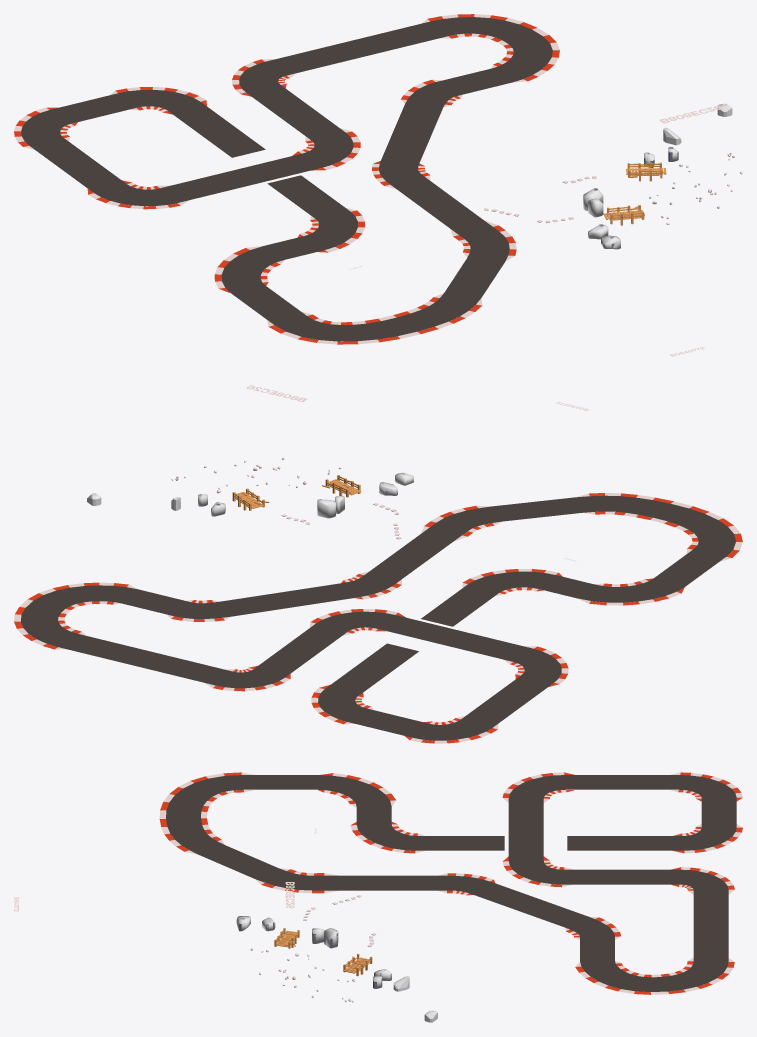
File: scenery.glb
The picture shows the model from 3 angles, top to bottom: view 1: azimuth 30°, elevation 25°; view 2: azimuth 150°, elevation 25°; view 3: azimuth 270°, elevation 25°; orthographic projection. The views are drawn at different scales.
Parts seen in each view (by area): view 1: refRoad, Cube.076, Cube.049, Cube.078, Cube.071, Cube.079; view 2: refRoad, Cube.076, Cube.049, Cube.078; view 3: refRoad, Cube.076, Cube.049, Cube.078, Cube.079, Cube.072, Cube.071, Cube.067, Cube.075, Cube.066.
Part boxes in pixels (bbox=[...]): refRoad: bbox=[21, 17, 552, 341]; Cube.076: bbox=[267, 293, 482, 344]; Cube.049: bbox=[421, 14, 559, 82]; Cube.078: bbox=[214, 246, 284, 292]; Cube.071: bbox=[87, 180, 188, 209]; Cube.079: bbox=[297, 208, 364, 252]; refRoad: bbox=[21, 495, 735, 740]; Cube.076: bbox=[576, 493, 742, 561]; Cube.049: bbox=[14, 582, 136, 649]; Cube.078: bbox=[577, 578, 684, 605]; refRoad: bbox=[166, 775, 736, 991]; Cube.076: bbox=[159, 772, 253, 854]; Cube.049: bbox=[575, 958, 734, 994]; Cube.078: bbox=[318, 773, 396, 807]; Cube.079: bbox=[350, 822, 425, 853]; Cube.072: bbox=[502, 856, 572, 887]; Cube.071: bbox=[502, 772, 574, 802]; Cube.067: bbox=[670, 772, 742, 801]; Cube.075: bbox=[255, 868, 338, 893]; Cube.066: bbox=[673, 824, 742, 853].
Bounding box in the file's own units: 168 × 25.82 × 208.
2 materials, 1 textured.
